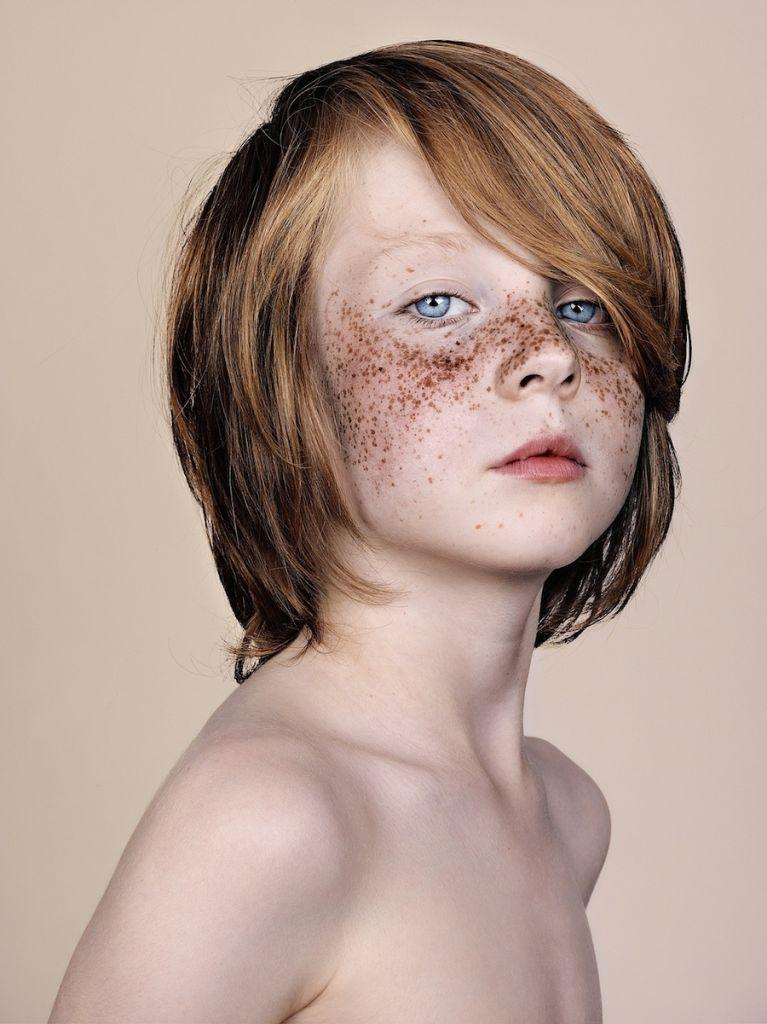Eyes: (382, 271, 490, 339), (540, 277, 628, 344)
